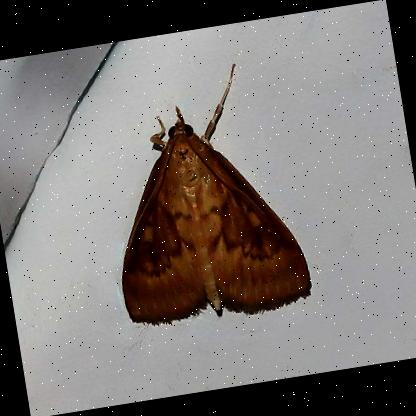Asian Corn Borer Moth: (86, 52, 320, 336)
